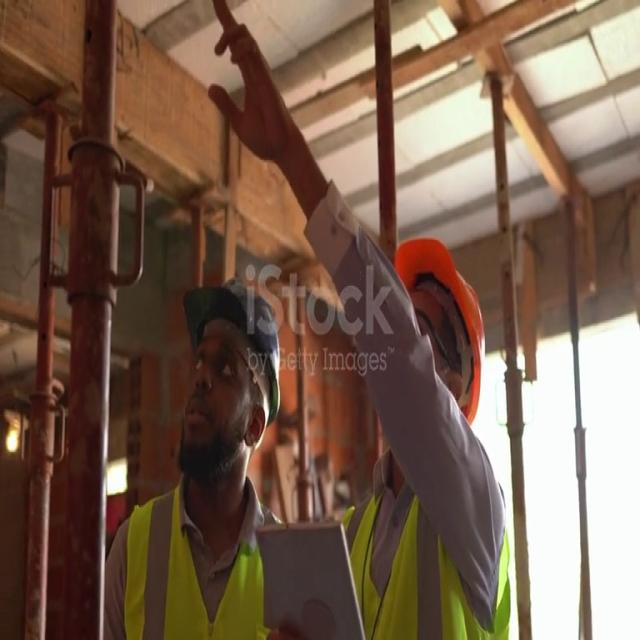capacete: (380, 212, 490, 433), (172, 254, 287, 431)
